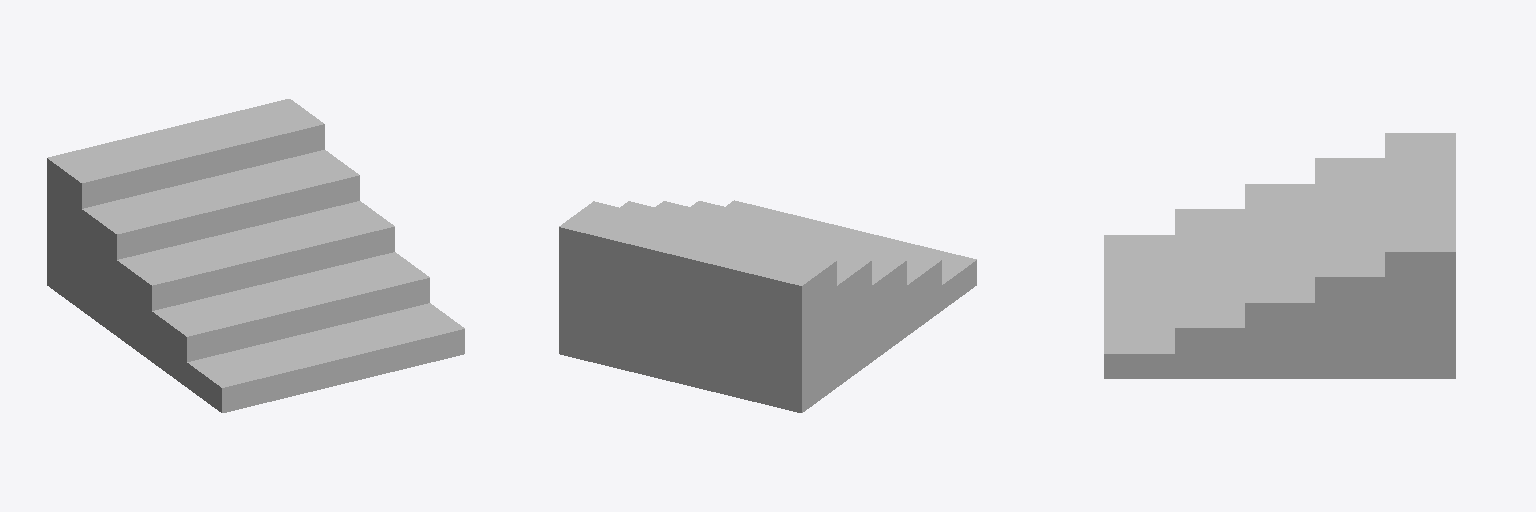
File: stairs.obj
3 renders of one model, left to right at view 1: azimuth 30°, elevation 25°; view 2: azimuth 150°, elevation 25°; view 3: azimuth 270°, elevation 25°, orthographic.
Visible parts, largest first — view 1: Cube.001; view 2: Cube.001; view 3: Cube.001.
Boxes of the visible parts, box(x1,y1,x2,y2) form: Cube.001: box(47, 99, 464, 412); Cube.001: box(559, 200, 976, 412); Cube.001: box(1104, 133, 1455, 378).
Size of the model in its own units: 4 by 2 by 5.